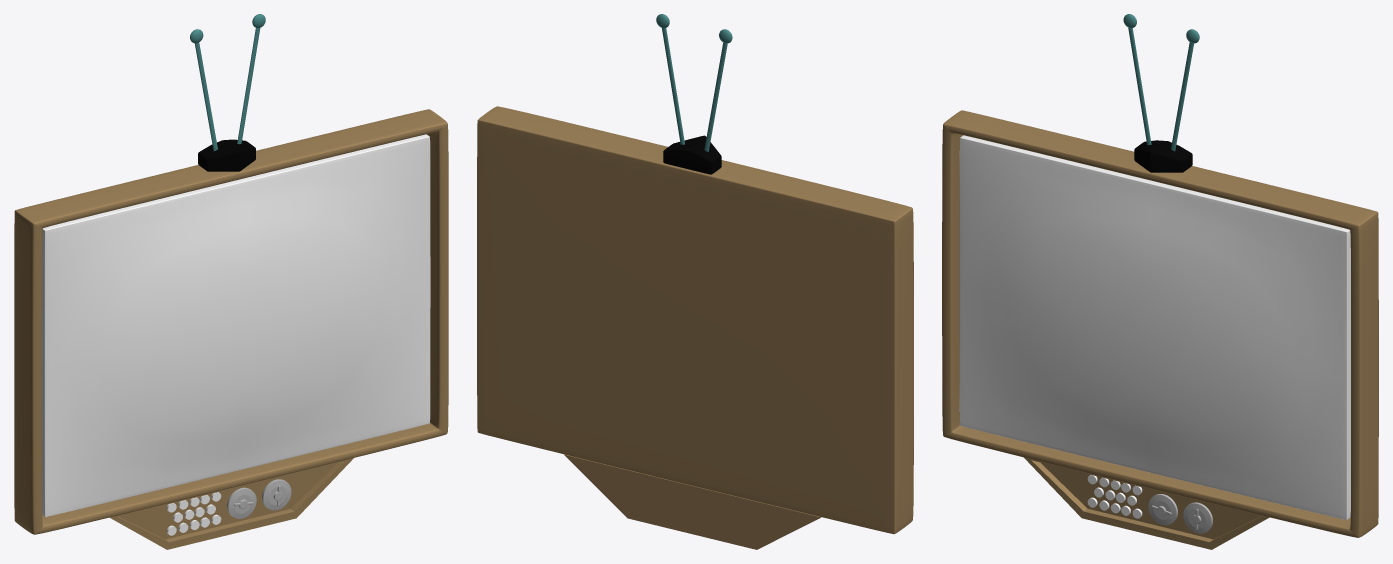
File: TV_Habitacion.fbx
The picture shows the model from 3 angles, left to right: view 1: azimuth 30°, elevation 25°; view 2: azimuth 150°, elevation 25°; view 3: azimuth 330°, elevation 25°; orthographic projection.
Visible parts, largest first — view 1: Pantalla_TV, Marco_TV, pCube20, Base_Antenas, Rueda_1 (×2), Antena_1, Antena_2; view 2: Marco_TV, pCube20, Base_Antenas, Antena_1, Antena_2; view 3: Pantalla_TV, Marco_TV, pCube20, Base_Antenas, Rueda_1 (×2), Antena_2, Antena_1.
Part boxes in pixels (box(x1,y1,x2,y2)): Pantalla_TV: box(41, 134, 430, 516); Marco_TV: box(14, 109, 448, 534); pCube20: box(109, 458, 353, 549); Base_Antenas: box(198, 139, 255, 171); Rueda_1 (×2): box(227, 479, 291, 518); Antena_1: box(237, 28, 260, 144); Antena_2: box(194, 42, 217, 151); Marco_TV: box(477, 106, 913, 534); pCube20: box(564, 454, 821, 549); Base_Antenas: box(663, 135, 721, 174); Antena_1: box(662, 28, 684, 144); Antena_2: box(704, 42, 727, 151); Pantalla_TV: box(959, 135, 1350, 519); Marco_TV: box(942, 110, 1378, 537); pCube20: box(1024, 457, 1269, 549); Base_Antenas: box(1134, 140, 1192, 172); Rueda_1 (×2): box(1148, 494, 1212, 533); Antena_2: box(1128, 27, 1151, 145); Antena_1: box(1171, 42, 1193, 151).
Size of the model in its own units: 5.55 by 6.4 by 0.5903.
